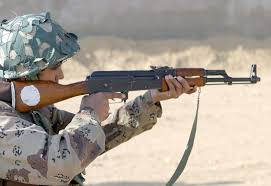gun: (5, 58, 267, 117)
uniform: (1, 9, 164, 175)
